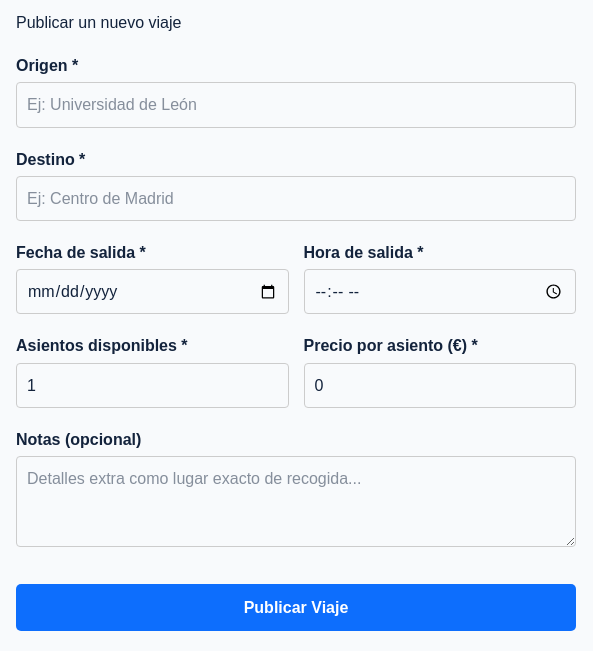
CreateRide › uses the shared auth token when publishing a ride
In the field named "origin": (296, 105) [16, 82, 576, 128], type "Madrid"
In the field named "destination": (296, 198) [16, 176, 576, 221], type "Barcelona"
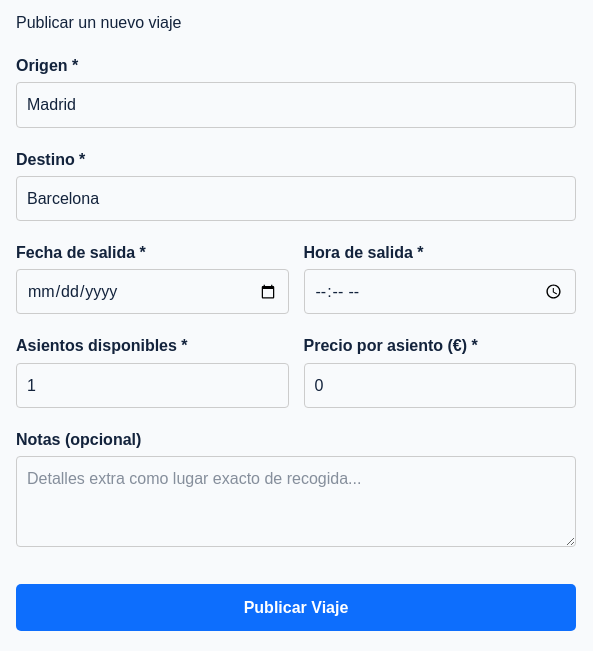
In the date field named "departureDate": (152, 292) [16, 269, 288, 314], type "2099-05-20"
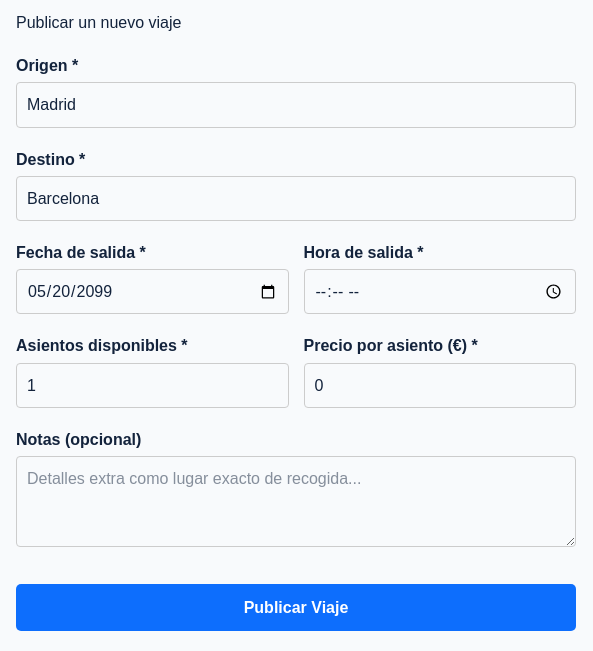
In the time field named "departureTime": (440, 292) [304, 269, 576, 314], type "08:30"
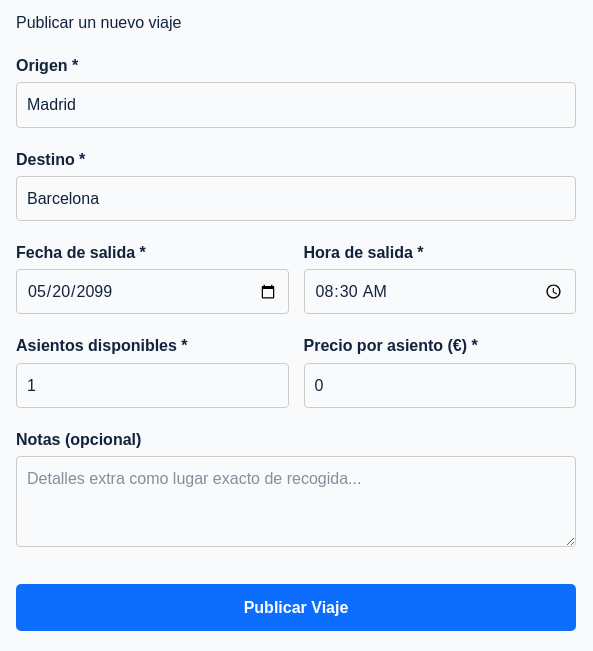
Replace the text in the number field named "availableSeats" below "Asientos disponibles *" with "3": (152, 385) [16, 362, 288, 408]
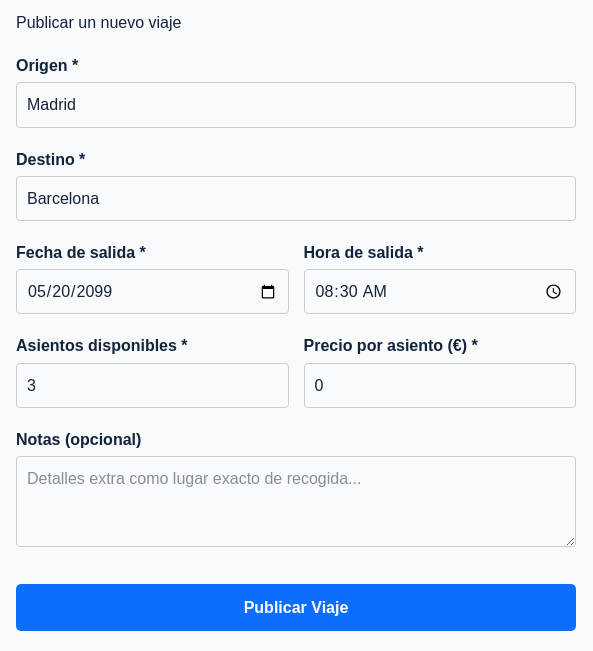
Replace the text in the number field named "price" below "Precio por asiento (€) *" with "12.5": (440, 385) [304, 362, 576, 408]
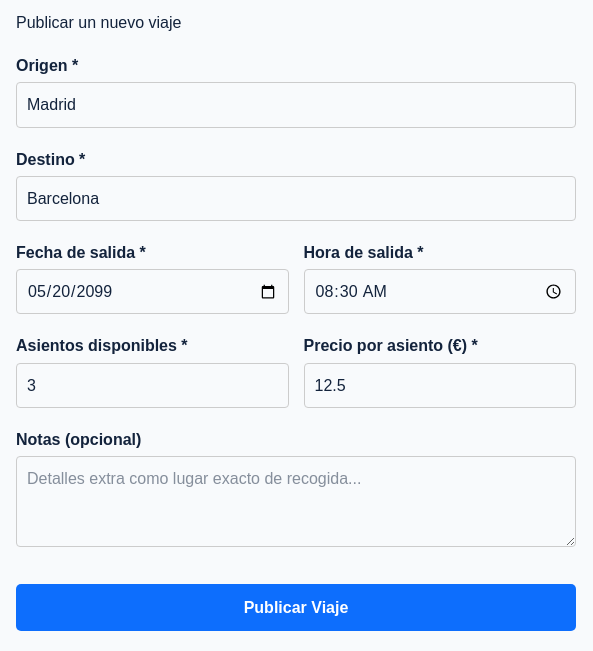
Submit the form
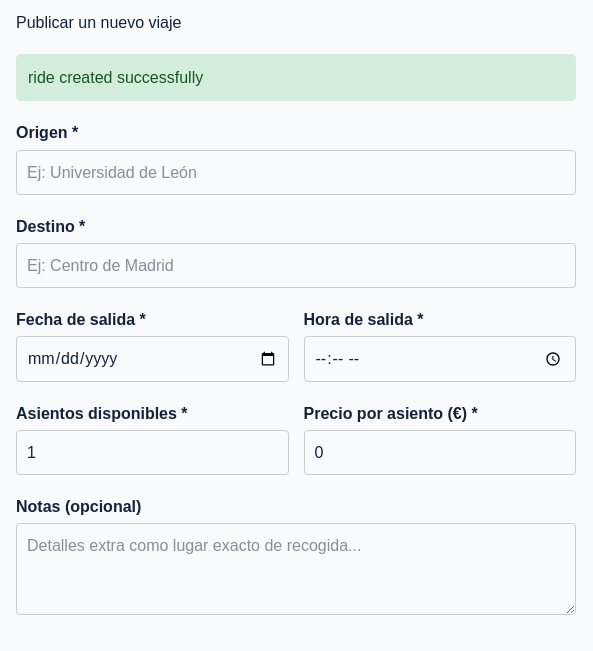
Now the text "ride created successfully" is shown, box [16, 54, 576, 101]
